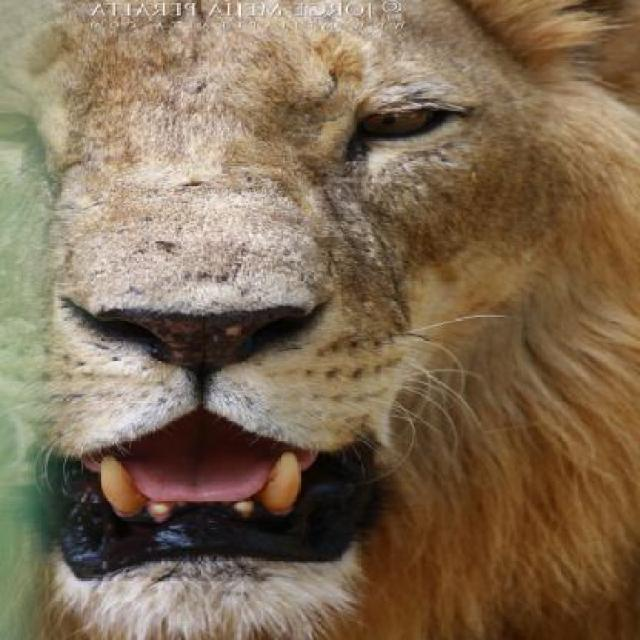Lion: (2, 12, 626, 638)
